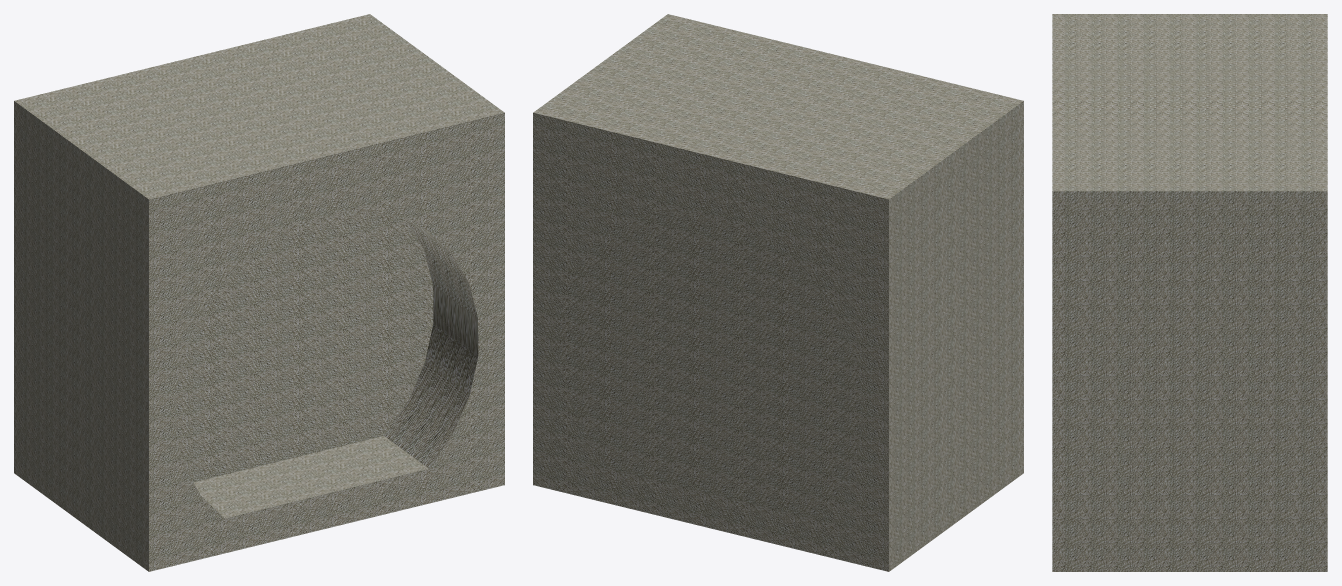
File: ExcavWholeFace1.glb
The picture shows the model from 3 angles, left to right: view 1: azimuth 30°, elevation 25°; view 2: azimuth 150°, elevation 25°; view 3: azimuth 270°, elevation 25°; orthographic projection. The views are drawn at different scales.
Bounding box in the file's own units: 16 × 16 × 10.5.
Materials: 1 (1 with a texture image).
